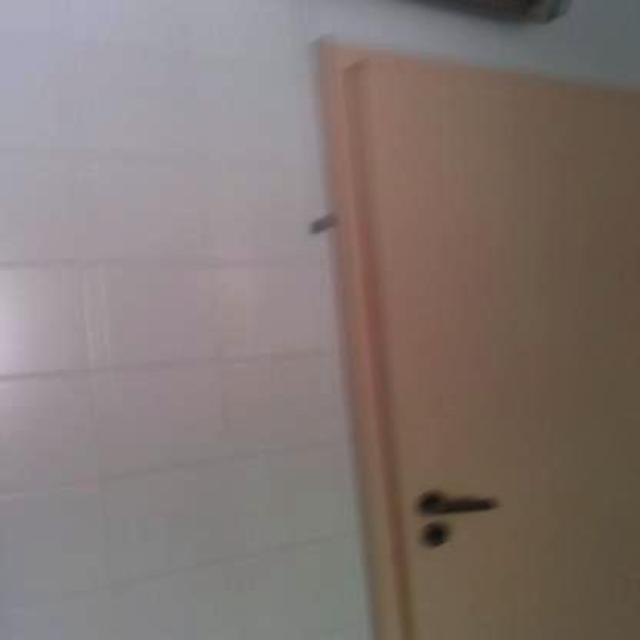door: (312, 36, 638, 638)
